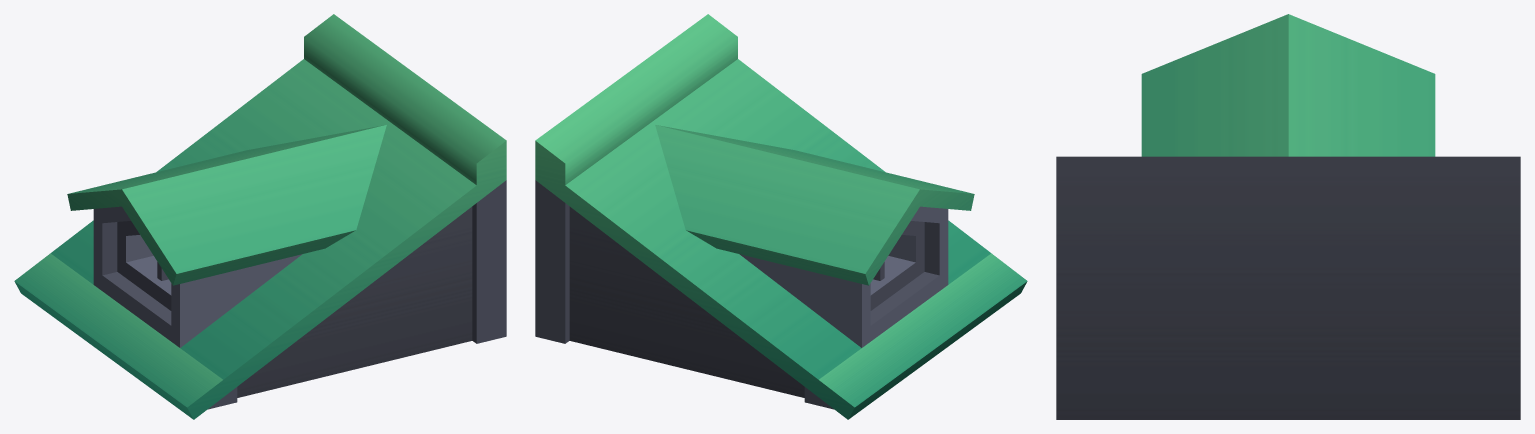
File: roof-window.glb
3 renders of one model, left to right at view 1: azimuth 30°, elevation 25°; view 2: azimuth 150°, elevation 25°; view 3: azimuth 270°, elevation 25°, orthographic. The views are drawn at different scales.
Parts seen in each view (by area): view 1: roof-window; view 2: roof-window; view 3: roof-window.
Boxes of the visible parts, left/top/right/bottom form: roof-window: left=14, top=14, right=506, bottom=419; roof-window: left=535, top=14, right=1027, bottom=419; roof-window: left=1056, top=14, right=1520, bottom=419.
Bounding box in the file's own units: 1.07 × 0.6483 × 1.
Materials: 1 (1 with a texture image).
